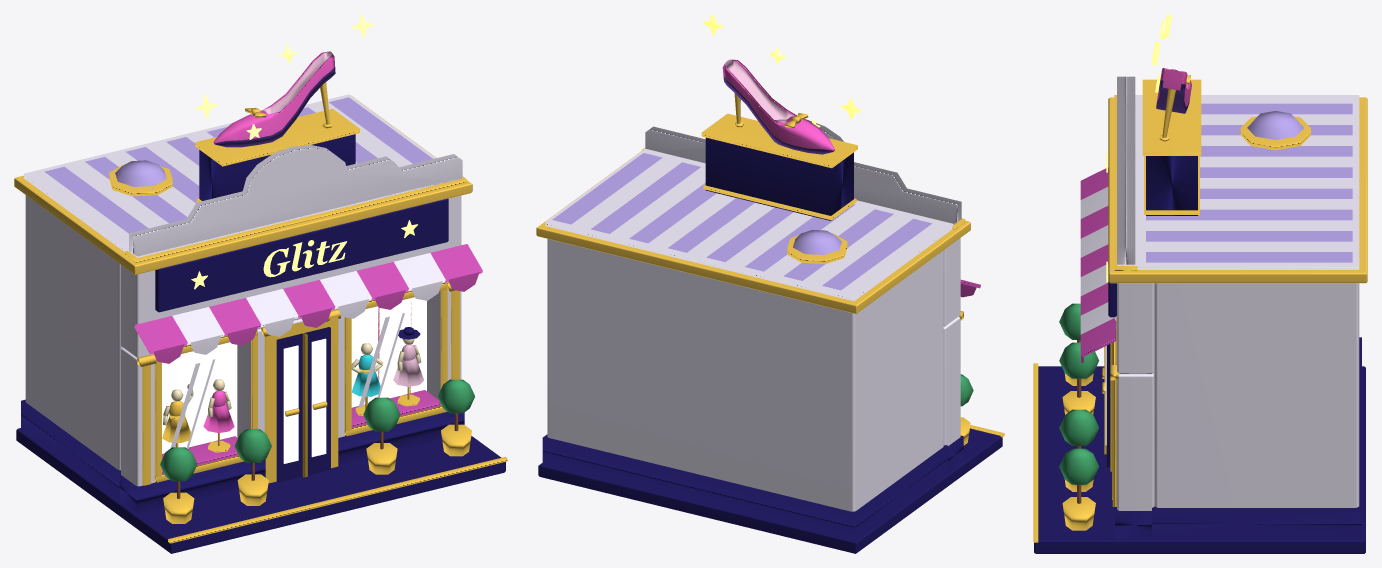
Rendered from boutique_marquee.glb.
3 views of the same model, side by side, from view 1: azimuth 30°, elevation 25°; view 2: azimuth 150°, elevation 25°; view 3: azimuth 270°, elevation 25° (orthographic). The views are drawn at different scales.
Parts seen in each view (by area): view 1: Storefront, Top, Shell, Windows, Sign; view 2: Shell, Top, Storefront; view 3: Shell, Top, Storefront.
Boxes of the visible parts, box(x1,y1,x2,y2) form: Storefront: box(119, 195, 482, 513); Top: box(109, 14, 507, 553); Shell: box(14, 94, 472, 525); Windows: box(162, 297, 439, 473); Sign: box(191, 220, 417, 289); Shell: box(536, 148, 970, 553); Top: box(641, 14, 1004, 471); Storefront: box(943, 238, 980, 471); Shell: box(1108, 95, 1367, 553); Top: box(1033, 14, 1310, 553); Storefront: box(1080, 167, 1154, 538).
Size of the model in its own units: 5 by 6.17 by 4.
